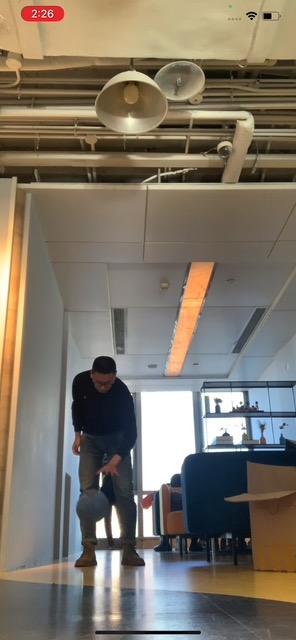ball: (76, 491, 110, 522)
